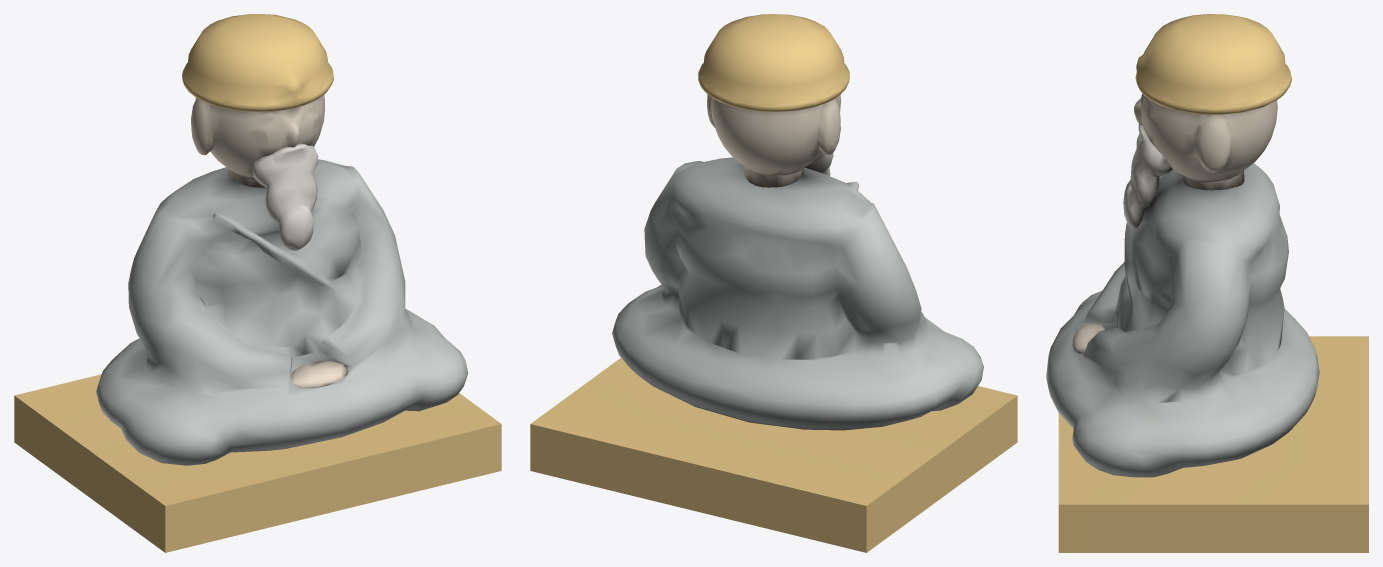
The model's file is seated.glb.
3 renders of one model, left to right at view 1: azimuth 30°, elevation 25°; view 2: azimuth 150°, elevation 25°; view 3: azimuth 270°, elevation 25°, orthographic. The views are drawn at different scales.
Visible parts, largest first — view 1: robe, base, hat, skin, beard; view 2: robe, base, hat, skin; view 3: robe, base, hat, skin, beard.
Part boxes in pixels (x1=…): robe: x1=96, y1=159, x2=467, y2=465; base: x1=14, y1=374, x2=501, y2=552; hat: x1=182, y1=14, x2=333, y2=111; skin: x1=191, y1=94, x2=348, y2=388; beard: x1=251, y1=143, x2=318, y2=250; robe: x1=612, y1=157, x2=983, y2=430; base: x1=530, y1=358, x2=1017, y2=552; hat: x1=698, y1=14, x2=849, y2=112; skin: x1=707, y1=94, x2=840, y2=187; robe: x1=1046, y1=163, x2=1319, y2=477; base: x1=1058, y1=336, x2=1368, y2=552; hat: x1=1135, y1=14, x2=1291, y2=114; skin: x1=1072, y1=93, x2=1277, y2=353; beard: x1=1123, y1=123, x2=1172, y2=228.
Size of the model in its own units: 0.9 by 1.1 by 0.7283.
